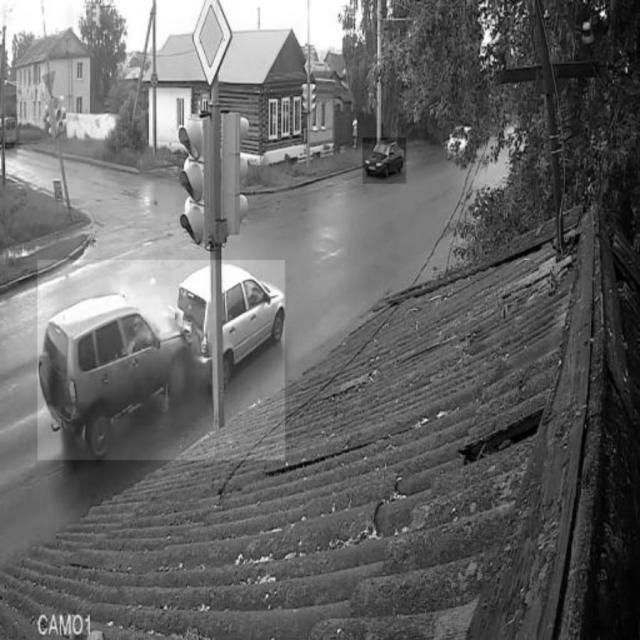accident: (38, 261, 286, 461)
vehicle: (363, 138, 407, 184), (0, 114, 20, 149)
